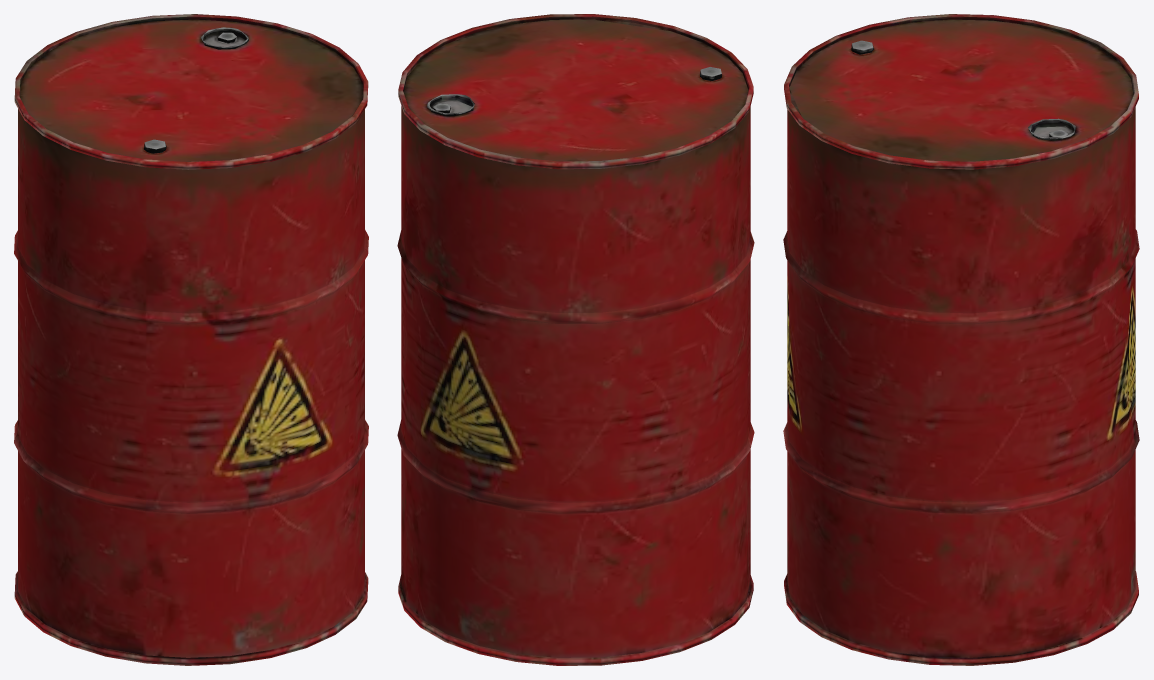
Rendered from ph_Barrel_01.glb.
3 views of the same model, side by side, from view 1: azimuth 30°, elevation 25°; view 2: azimuth 150°, elevation 25°; view 3: azimuth 270°, elevation 25° (orthographic).
Parts seen in each view (by area): view 1: Barrel_01; view 2: Barrel_01; view 3: Barrel_01.
Part boxes in pixels (x1=…): Barrel_01: x1=14, y1=14, x2=368, y2=665; Barrel_01: x1=397, y1=14, x2=754, y2=665; Barrel_01: x1=783, y1=14, x2=1139, y2=665.
Bounding box in the file's own units: 0.5627 × 0.8789 × 0.5627.
1 material, 1 textured.
